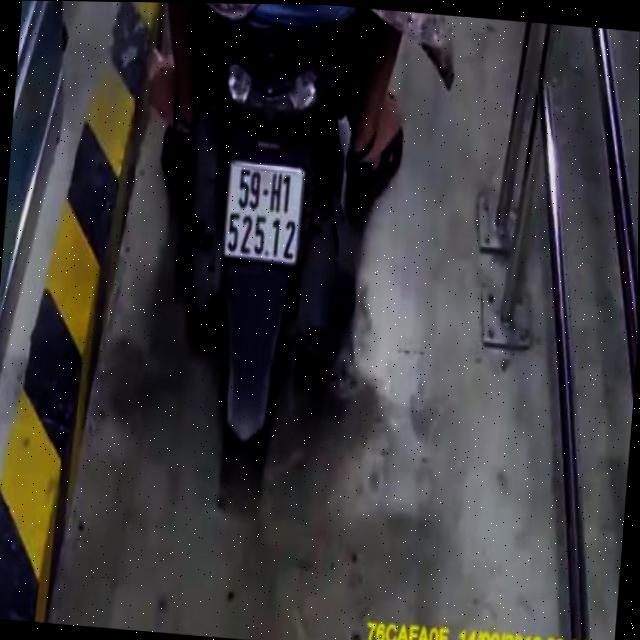motorcycle: (134, 2, 388, 482)
plate: (216, 154, 307, 267)
